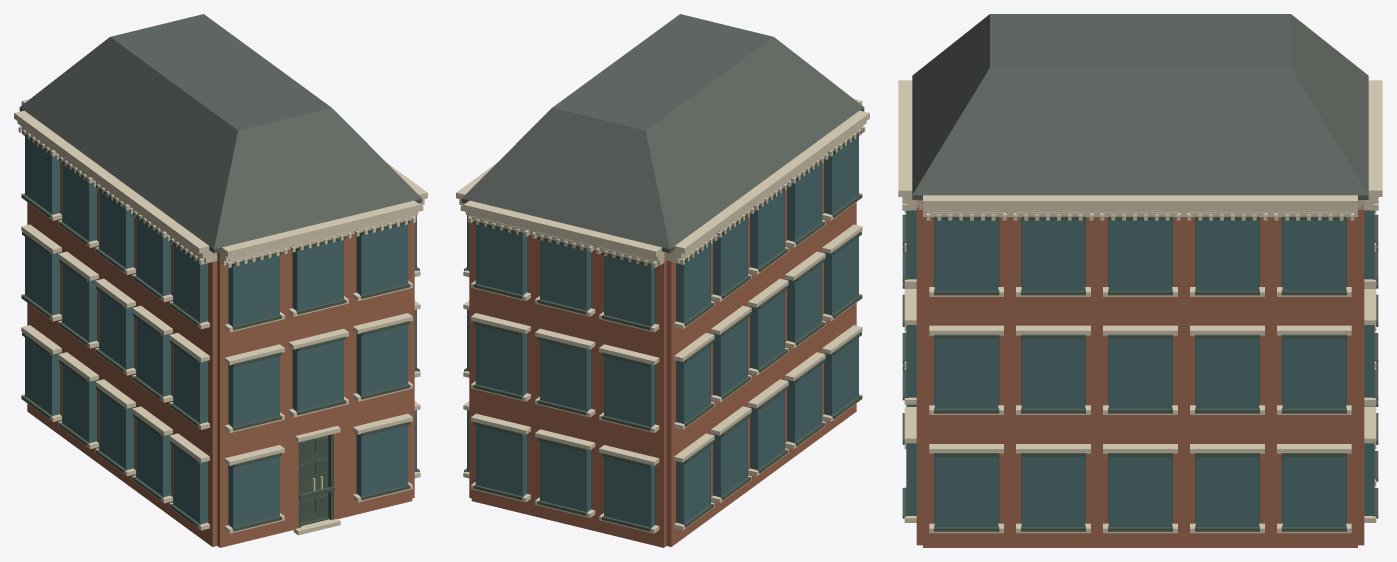
File: bay-townhouse.glb
3 renders of one model, left to right at view 1: azimuth 30°, elevation 25°; view 2: azimuth 150°, elevation 25°; view 3: azimuth 270°, elevation 25°, orthographic. The views are drawn at different scales.
Visible parts, largest first — view 1: Roof main.002, main/north/0/5000/wall, main/north/0/8333/glass, main/north/1/8333/glass, main/north/2/8333/glass, main/north/0/1667/glass, main/north/1/5000/glass, main/north/1/1667/glass, main/north/2/1667/glass, main/north/2/5000/glass, main/north/1/1667/wall, main/north/0/1667/wall (+63 smaller); view 2: Roof main.002, main/south/0/8333/glass, main/south/1/8333/glass, main/south/2/8333/glass, main/south/0/1667/glass, main/south/1/5000/glass, main/south/1/1667/glass, main/south/0/5000/glass, main/south/2/1667/glass, main/south/2/5000/glass, main/south/1/1667/wall, main/south/0/1667/wall (+63 smaller); view 3: Roof main.002, main/east/2/1000/glass, main/east/2/3000/glass, main/east/2/5000/glass, main/east/2/7000/glass, main/east/2/9000/glass, main/east/1/1000/glass.001, main/east/1/3000/glass.001, main/east/1/5000/glass.001, main/east/1/7000/glass.001, main/east/1/9000/glass.001, main/east/0/1000/glass.001 (+65 smaller).
Boxes of the visible parts, x1=… form: Roof main.002: x1=19, y1=14, x2=422, y2=253; main/north/0/5000/wall: x1=284, y1=416, x2=348, y2=532; main/north/0/8333/glass: x1=356, y1=425, x2=408, y2=496; main/north/1/8333/glass: x1=356, y1=325, x2=408, y2=395; main/north/2/8333/glass: x1=356, y1=224, x2=408, y2=294; main/north/0/1667/glass: x1=228, y1=456, x2=279, y2=527; main/north/1/5000/glass: x1=292, y1=340, x2=343, y2=411; main/north/1/1667/glass: x1=228, y1=356, x2=279, y2=426; main/north/2/1667/glass: x1=228, y1=255, x2=279, y2=326; main/north/2/5000/glass: x1=292, y1=240, x2=343, y2=310; main/north/1/1667/wall: x1=217, y1=331, x2=284, y2=447; main/north/0/1667/wall: x1=217, y1=432, x2=284, y2=547; Roof main.002: x1=461, y1=14, x2=864, y2=253; main/south/0/8333/glass: x1=475, y1=425, x2=527, y2=496; main/south/1/8333/glass: x1=475, y1=325, x2=527, y2=395; main/south/2/8333/glass: x1=475, y1=224, x2=527, y2=294; main/south/0/1667/glass: x1=604, y1=456, x2=655, y2=527; main/south/1/5000/glass: x1=540, y1=340, x2=591, y2=411; main/south/1/1667/glass: x1=604, y1=356, x2=655, y2=426; main/south/0/5000/glass: x1=540, y1=441, x2=591, y2=511; main/south/2/1667/glass: x1=604, y1=255, x2=655, y2=326; main/south/2/5000/glass: x1=540, y1=240, x2=591, y2=310; main/south/1/1667/wall: x1=599, y1=331, x2=666, y2=447; main/south/0/1667/wall: x1=599, y1=432, x2=666, y2=547; Roof main.002: x1=912, y1=14, x2=1368, y2=199; main/east/2/1000/glass: x1=1282, y1=220, x2=1346, y2=290; main/east/2/3000/glass: x1=1195, y1=220, x2=1259, y2=290; main/east/2/5000/glass: x1=1108, y1=220, x2=1172, y2=290; main/east/2/7000/glass: x1=1021, y1=220, x2=1085, y2=290; main/east/2/9000/glass: x1=934, y1=220, x2=998, y2=290; main/east/1/1000/glass.001: x1=1282, y1=338, x2=1346, y2=408; main/east/1/3000/glass.001: x1=1195, y1=338, x2=1259, y2=408; main/east/1/5000/glass.001: x1=1108, y1=338, x2=1172, y2=408; main/east/1/7000/glass.001: x1=1021, y1=338, x2=1085, y2=408; main/east/1/9000/glass.001: x1=934, y1=338, x2=998, y2=408; main/east/0/1000/glass.001: x1=1282, y1=457, x2=1346, y2=526.
Bounding box in the file's own units: 7.13 × 11.5 × 11.13.
